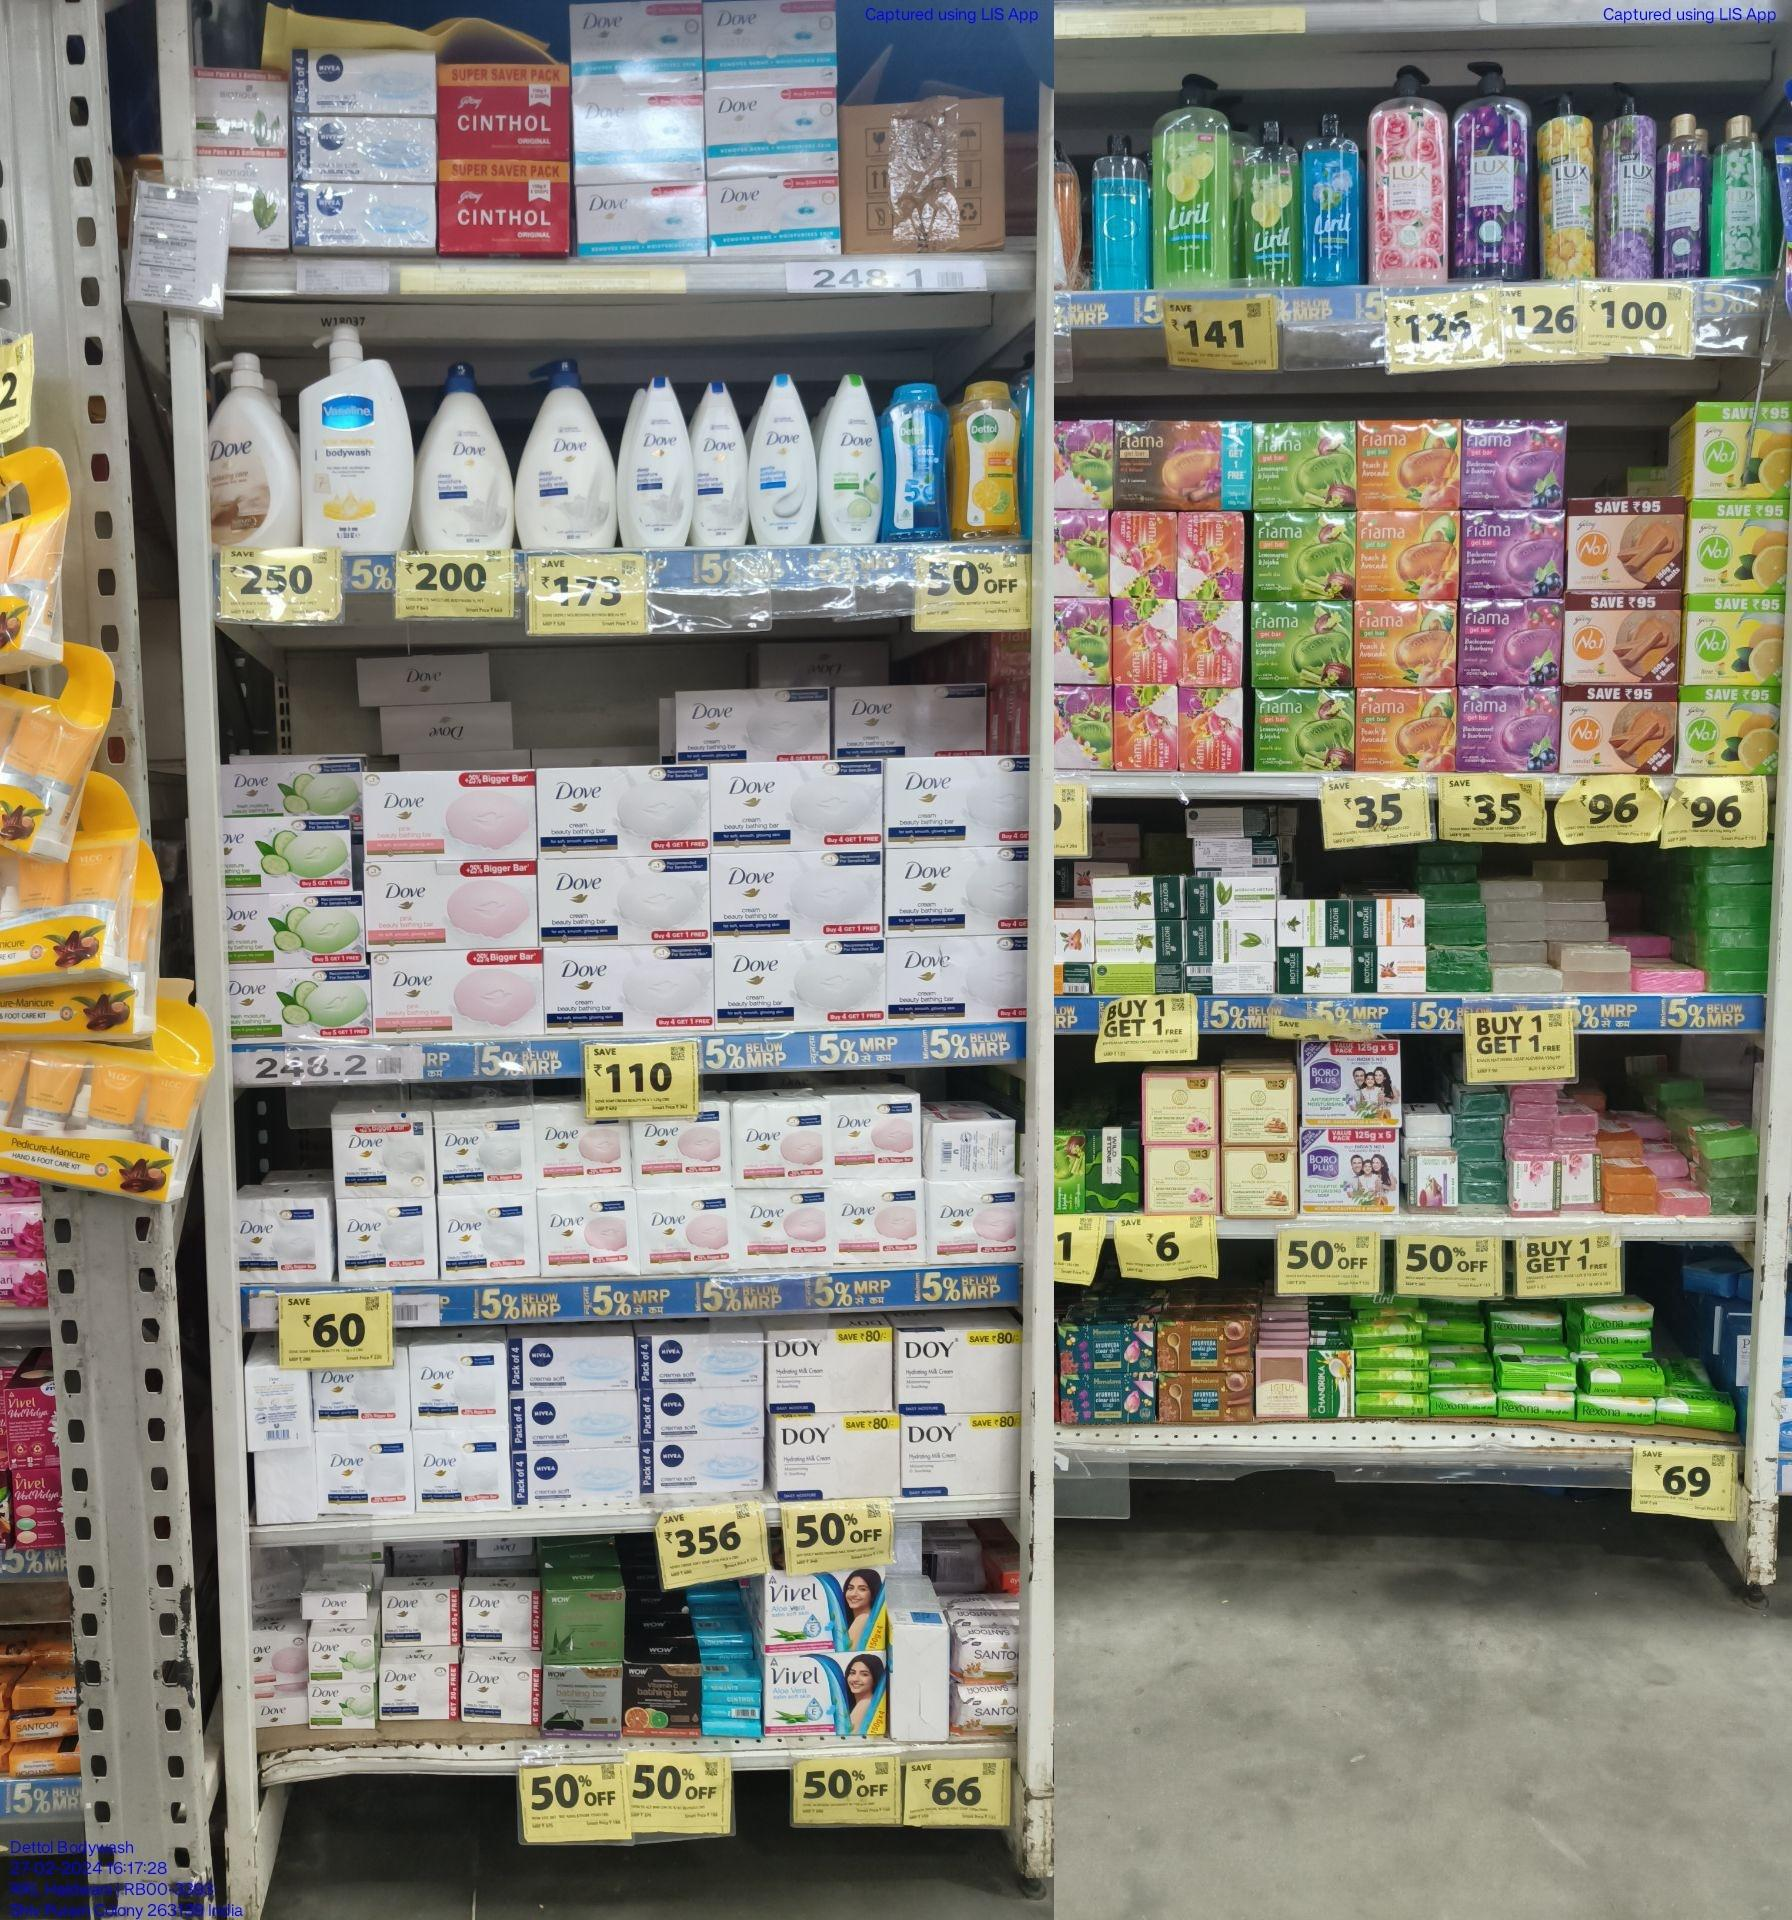Dove_Deep_Moisture_Body_Wash_250ML: (620, 367, 689, 556), (691, 381, 744, 547)
Dove_Gentle_Exfoliating_Body_Wash_250ML: (748, 376, 815, 547)
Dove_Refreshing_Body_Wash_250ML: (820, 372, 884, 547)
Liril_Cooling_Mint_Body_Wash_250ML: (1305, 111, 1366, 288)
Liril_Lime_and_Tea_Tree_Oil_Body_Wash_250ML: (1243, 115, 1299, 291)
Lux_Black_Orchid_Scent_and_Juniper_Oil_Body_Wash_245ML: (1659, 111, 1709, 283)
Lux_Body_Wash_Skin_Detox_Freesia_Scent_and_Alove_Vera_245ML: (1715, 111, 1767, 278)
Pears_Pure_Glycerin_and_Mint_Extracts_Body_Wash_250ML: (1091, 131, 1149, 290)
